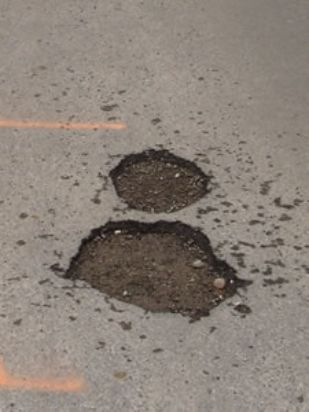pothole: (59, 217, 251, 326), (104, 145, 213, 215)
